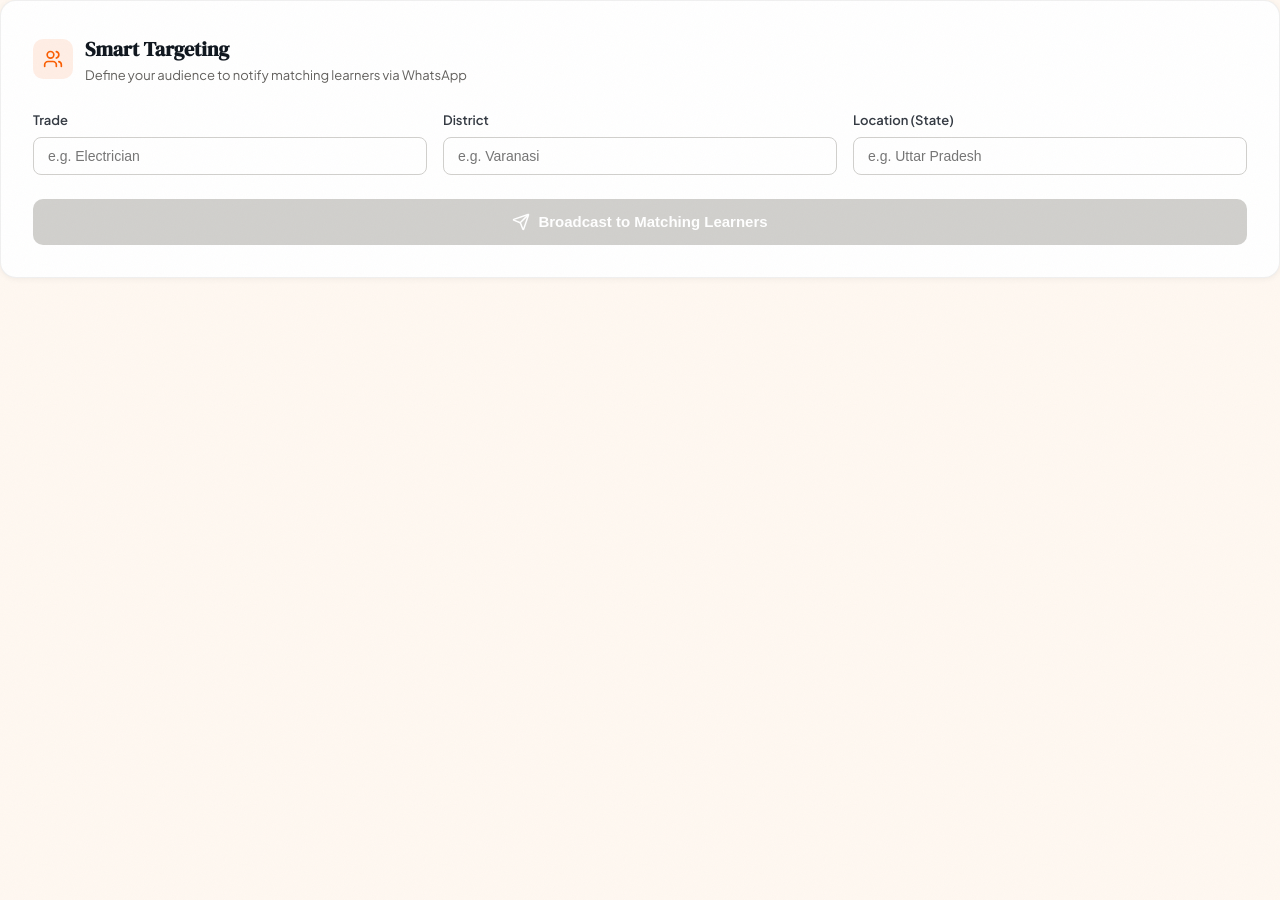
Scenario: SmartTargetingPanel - Confirmation Dialog › shows confirmation dialog when broadcast button is clicked
Note: Type to activate filters
In the field with placeholder "e.g. Electrician": {"x": 230, "y": 156} [33,137,427,175], type "Electrician"
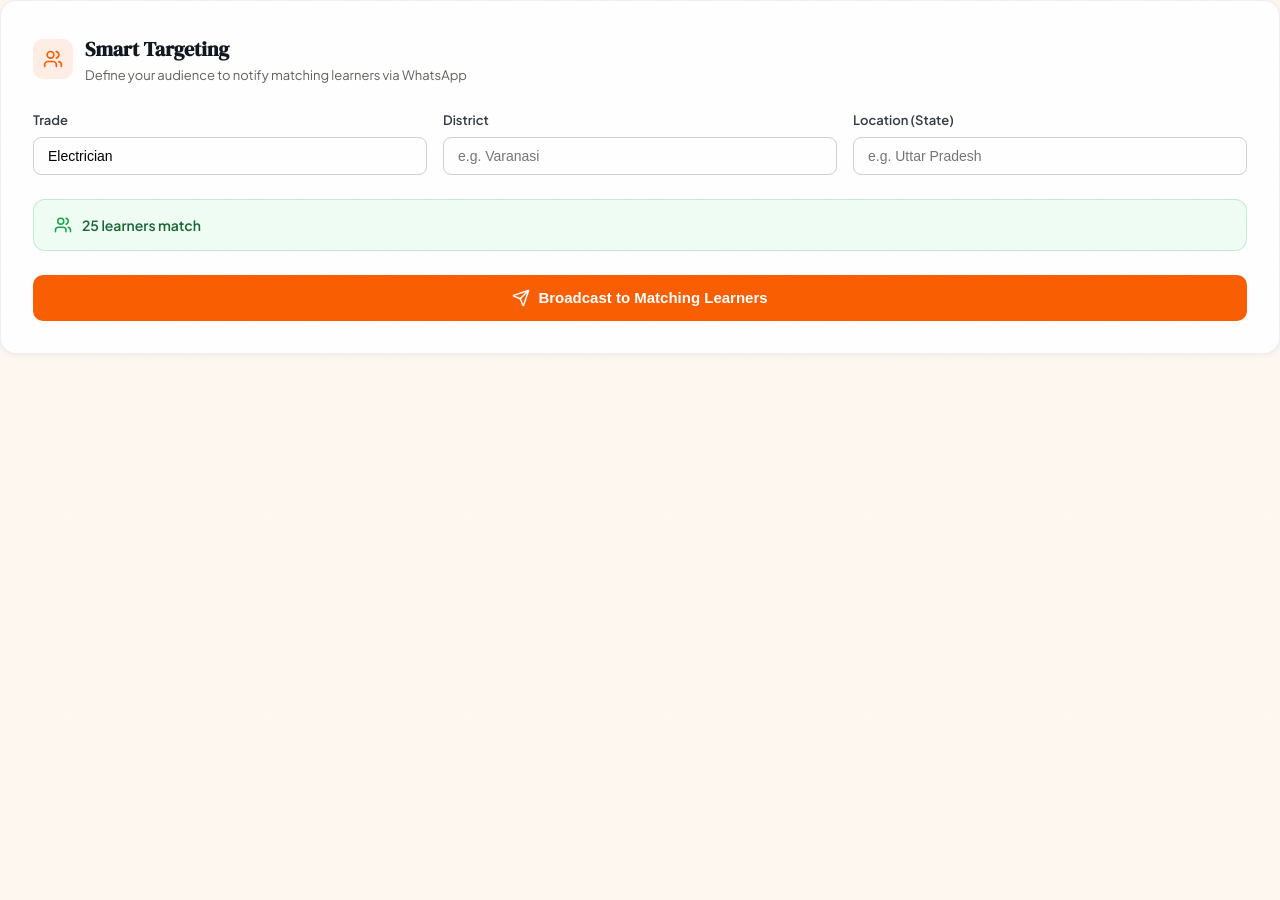
expect the text "25 learners match" is shown: met, box [82,214,201,236]
Note: Click broadcast button
Click the button "Broadcast to Matching Learners": {"x": 640, "y": 298} [33,275,1247,321]
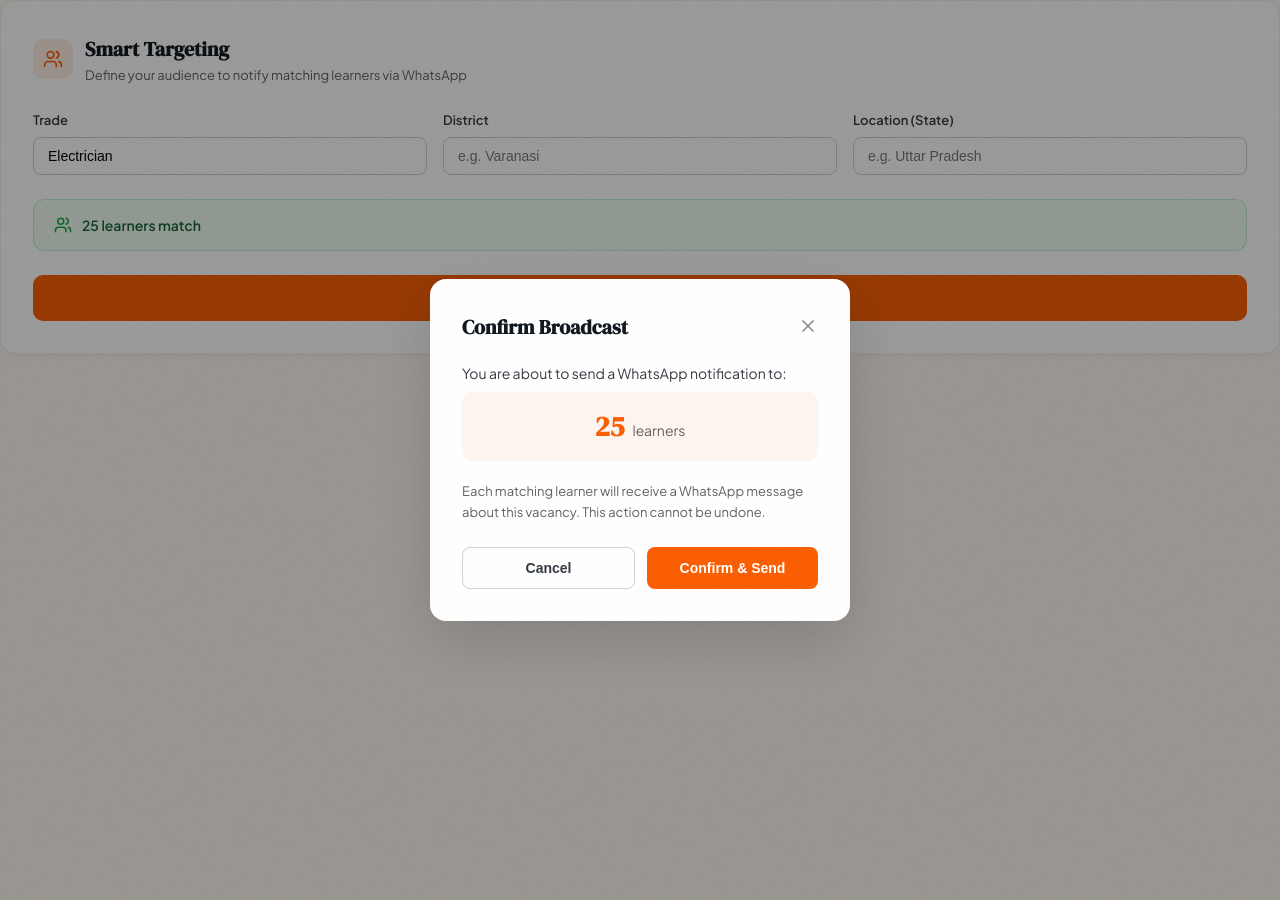
expect the heading "Confirm Broadcast" is shown: met, box [462,311,628,343]
expect the text "25" is shown: met, box [595,407,624,445]
